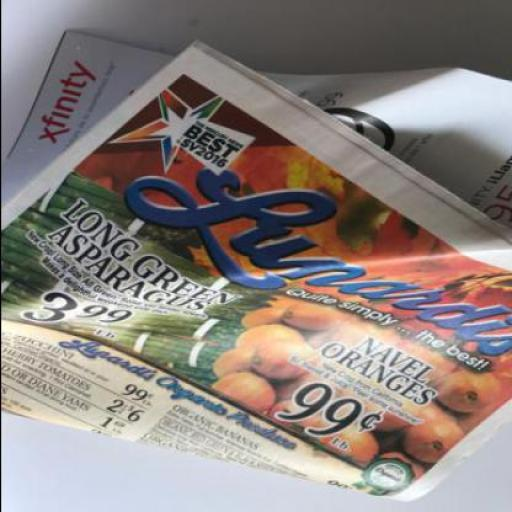paper: (1, 31, 511, 503)
